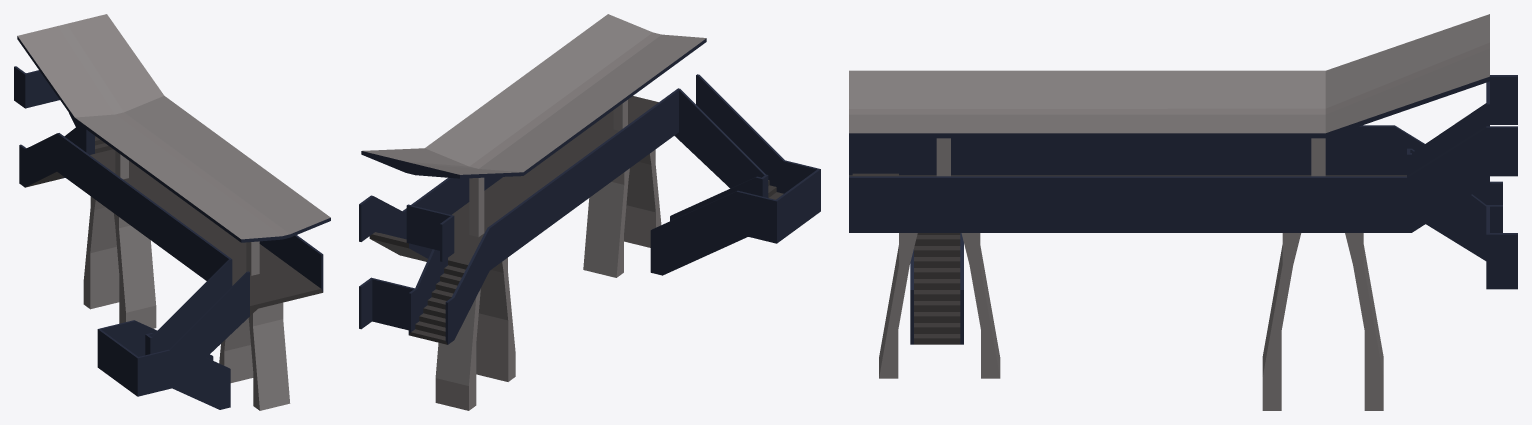
File: buildings-trainstation-oberpass-start.glb
The picture shows the model from 3 angles, left to right: view 1: azimuth 30°, elevation 25°; view 2: azimuth 150°, elevation 25°; view 3: azimuth 270°, elevation 25°; orthographic projection. The views are drawn at different scales.
Parts seen in each view (by area): view 1: trainstation-oberpass-start; view 2: trainstation-oberpass-start; view 3: trainstation-oberpass-start.
Part boxes in pixels (x1,y1,x2,y2): trainstation-oberpass-start: (14, 14, 330, 410); trainstation-oberpass-start: (359, 14, 820, 410); trainstation-oberpass-start: (849, 14, 1517, 410).
Bounding box in the file's own units: 8.95 × 11 × 18.75.
